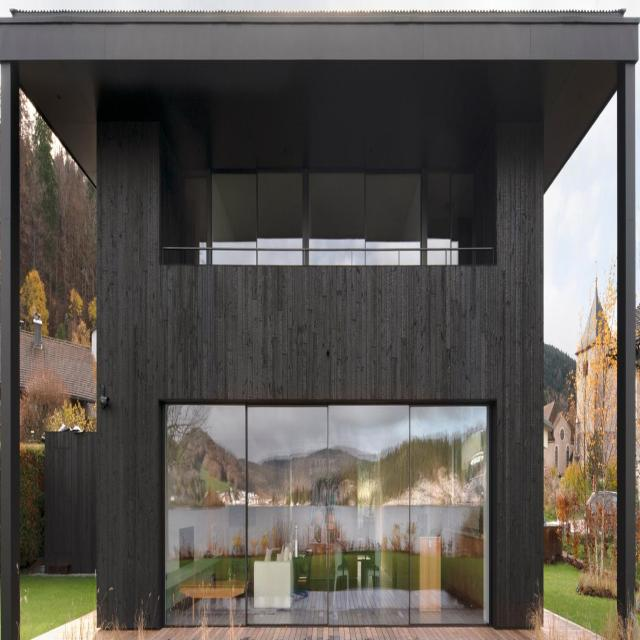wall: (0, 5, 640, 639)
windows: (164, 402, 492, 625), (178, 174, 477, 264)
